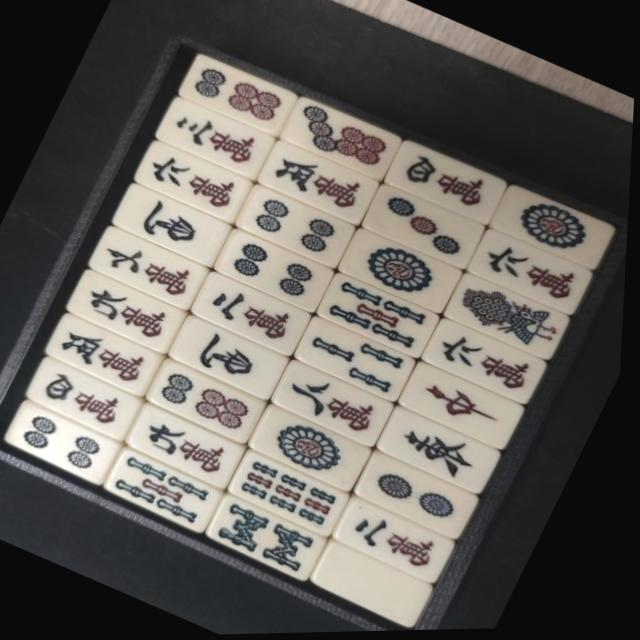hdr: (406, 365, 524, 448)
hdw: (324, 547, 435, 625)
hwe: (384, 411, 501, 493)
hww: (117, 185, 228, 264), (177, 319, 286, 397)
sb1: (450, 276, 575, 363)
sb3: (305, 319, 417, 400)
sb5: (111, 449, 226, 531), (325, 277, 438, 357)
sb8: (214, 496, 332, 580)
sb9: (238, 455, 349, 534)
sc2: (199, 273, 313, 355), (344, 503, 456, 582)
sc3: (159, 97, 271, 177)
sc4: (394, 145, 505, 221), (34, 359, 141, 436)
sc5: (263, 141, 377, 224), (51, 316, 160, 392)
sc6: (476, 233, 593, 317), (431, 322, 547, 404), (140, 143, 249, 219)
sc7: (96, 229, 205, 307)
sc8: (280, 362, 395, 445)
sc9: (72, 271, 184, 350), (138, 408, 245, 485)
sd1: (497, 187, 615, 272), (346, 231, 463, 314), (261, 409, 372, 491)
sd2: (365, 457, 478, 537)
sd3: (371, 186, 485, 267)
sd4: (11, 402, 122, 481), (245, 187, 354, 266), (222, 231, 330, 308)
sd6: (155, 362, 267, 440), (183, 55, 294, 133)
sd7: (283, 97, 401, 181)
